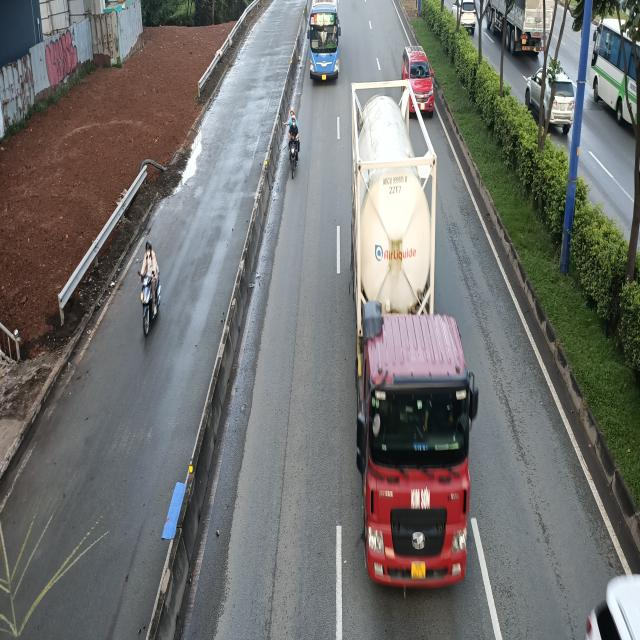car: (401, 45, 435, 113)
coach: (309, 0, 343, 81)
truck: (354, 76, 484, 595)
